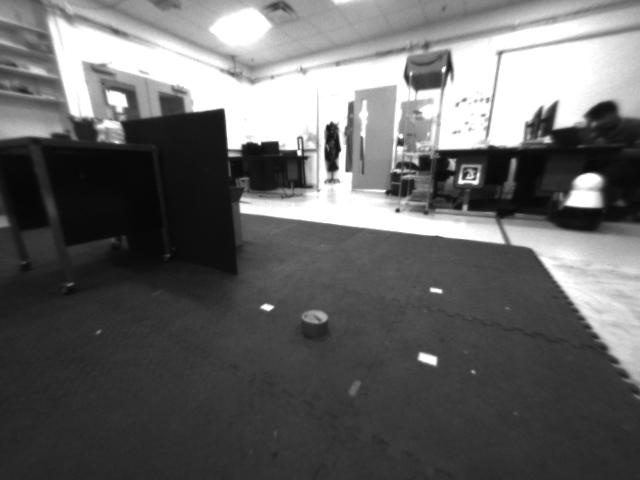dogtoy: (283, 295, 337, 348)
